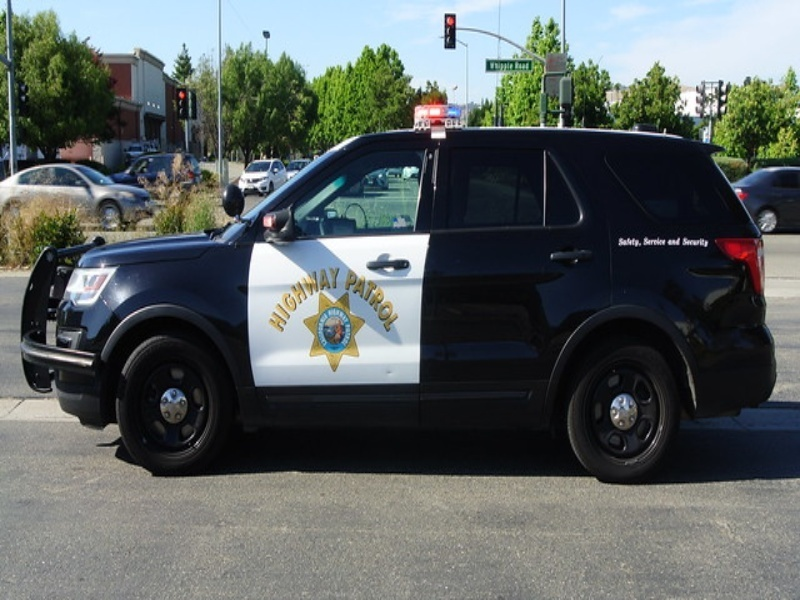policecar: (30, 141, 757, 472)
